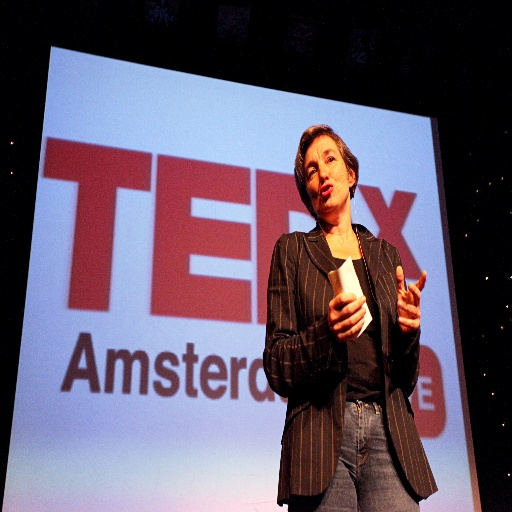hand: (397, 272, 425, 354), (326, 290, 366, 342)
